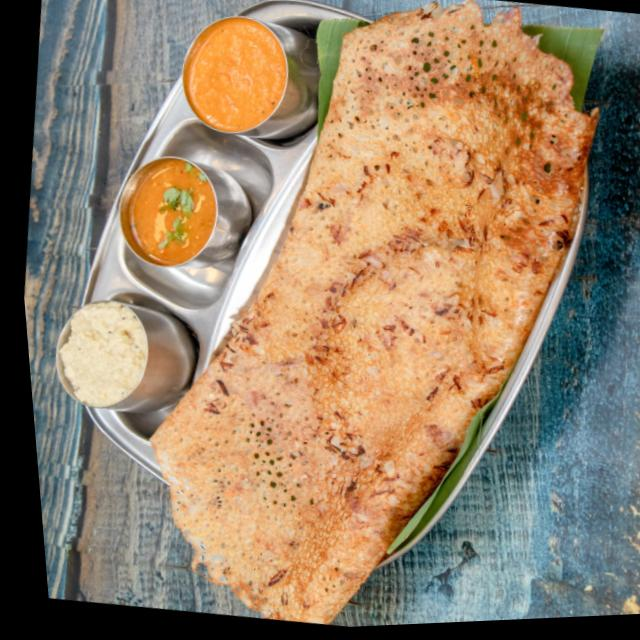DOSA: (149, 0, 601, 624)
RED CHUTNEY: (188, 21, 288, 132)
SAMBAR: (128, 159, 216, 263)
WHITE CHUTNEY: (57, 300, 148, 405)
